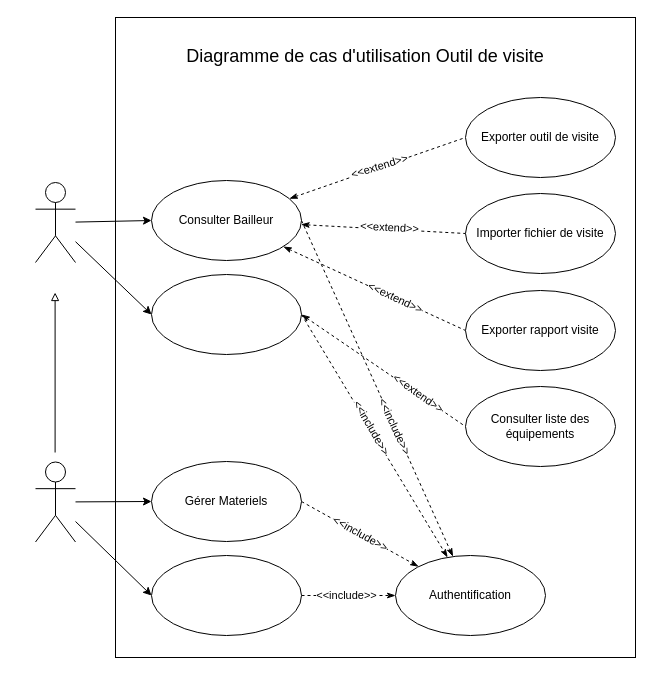
The diagram is 653 pixels wide and 675 high, and some of its shapes have lost their labels. Each missing label, with the centre of its shape:
Administrateur: (x=55, y=501)
Client: (x=55, y=222)
Consulter Site: (x=226, y=314)
Gérer Bailleurs: (x=226, y=595)
